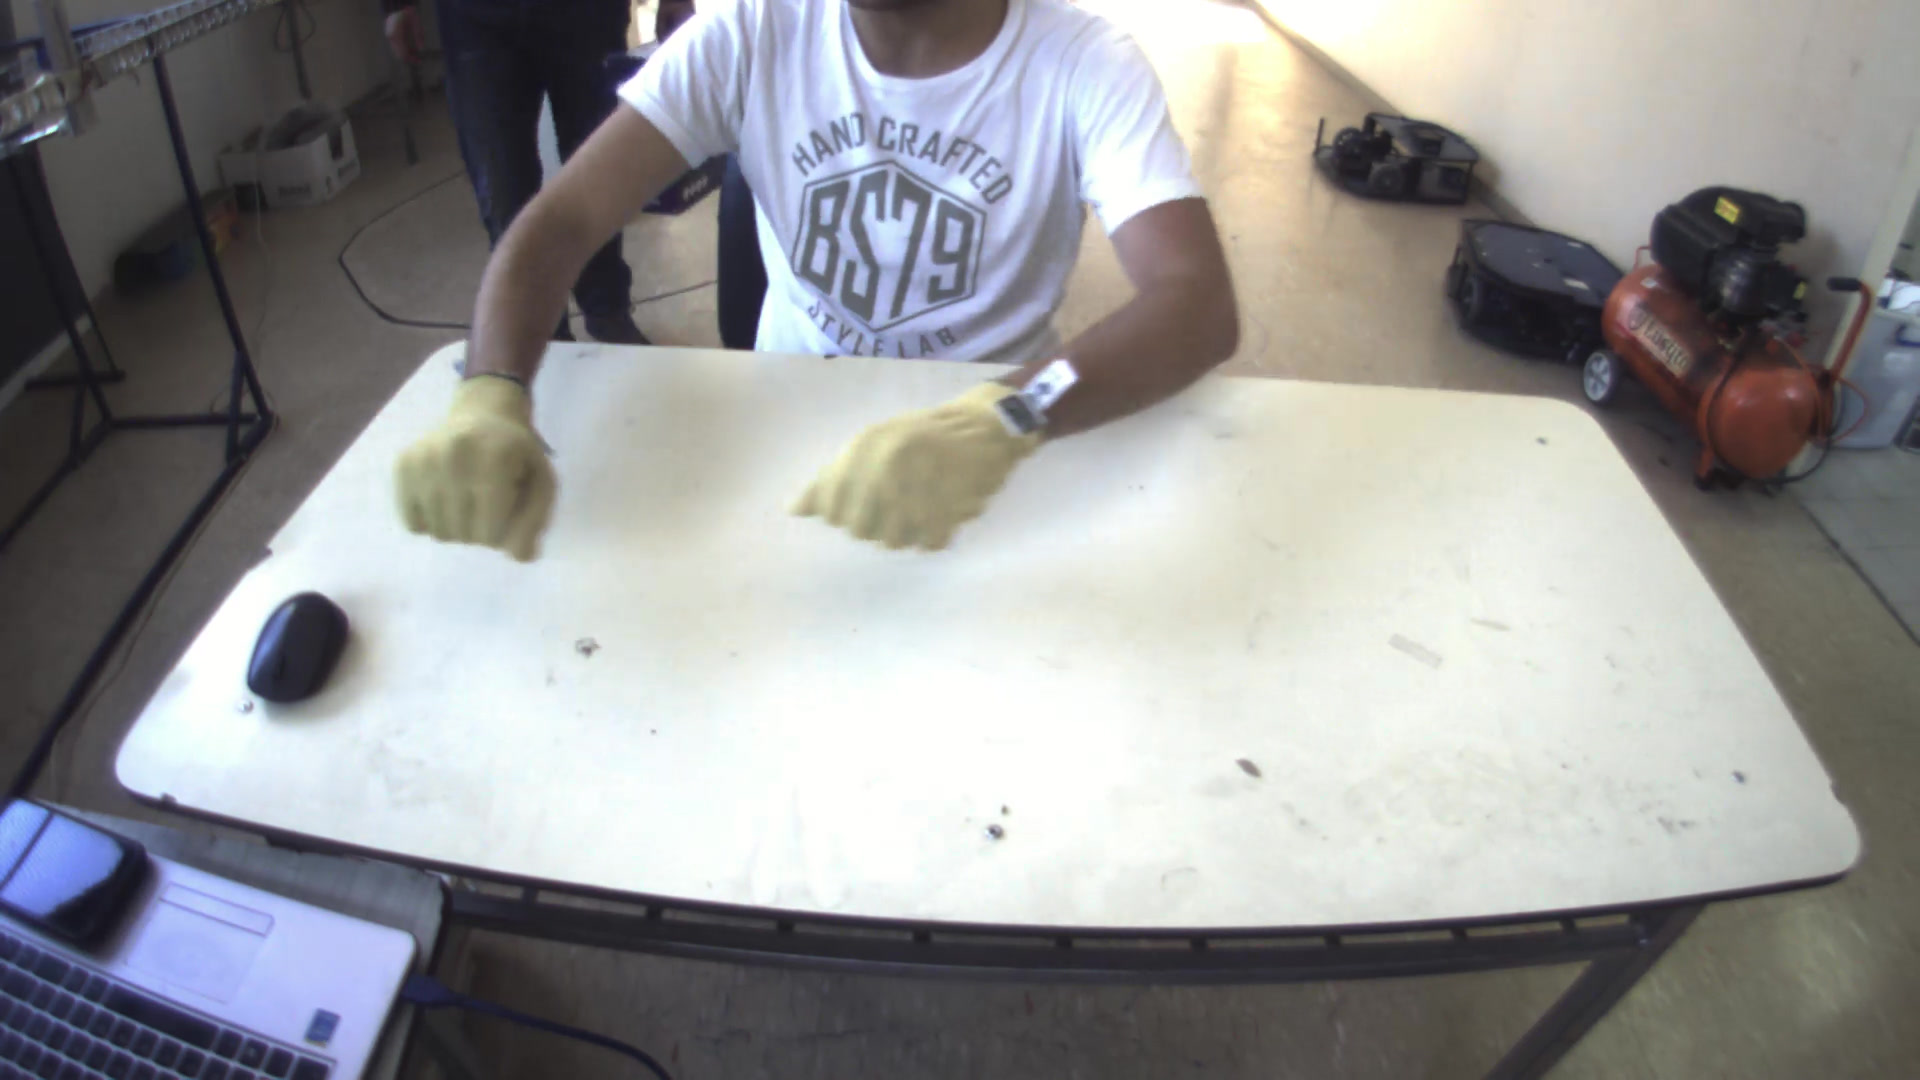hand: (773, 367, 1063, 560), (377, 356, 562, 562)
